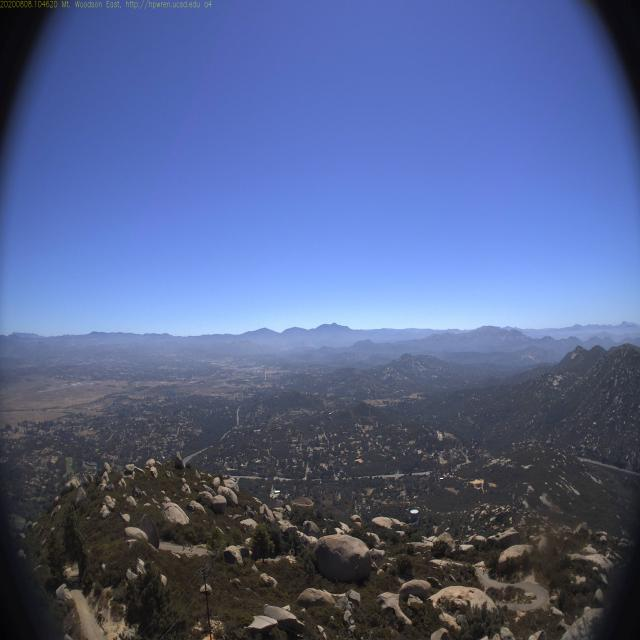smoke: (100, 357, 114, 382)
